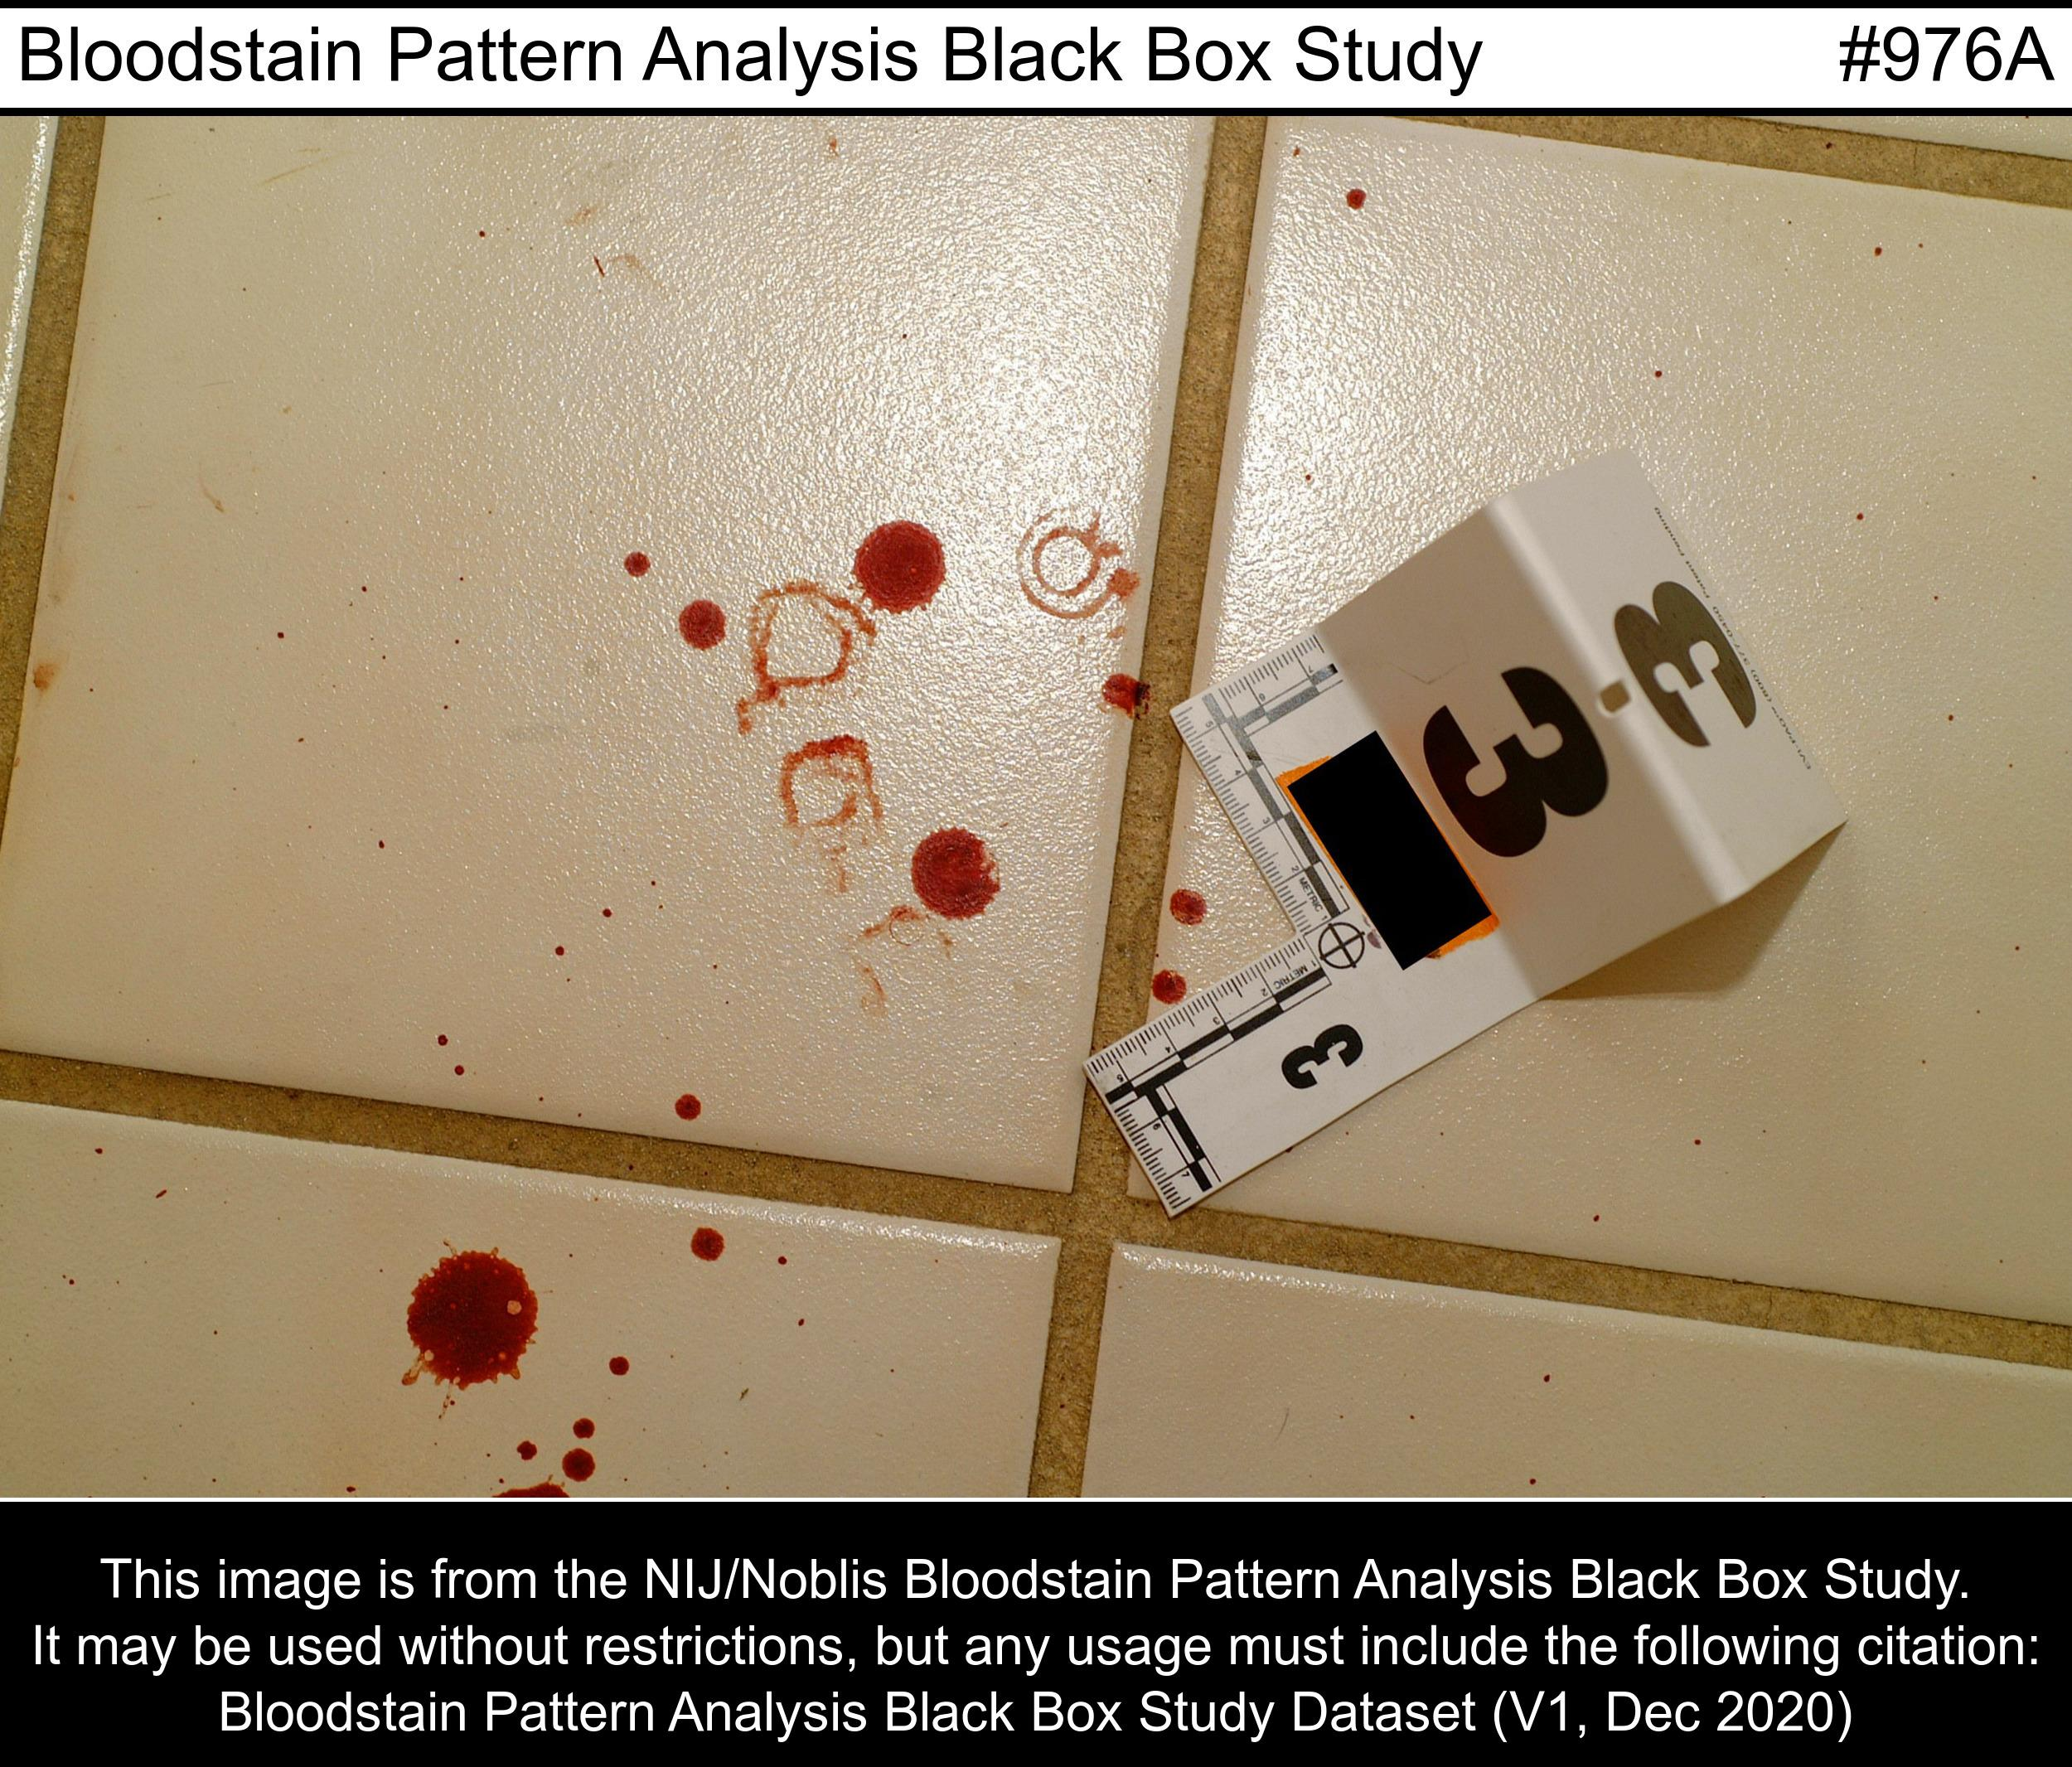Passive: (252, 394, 1266, 1565)
